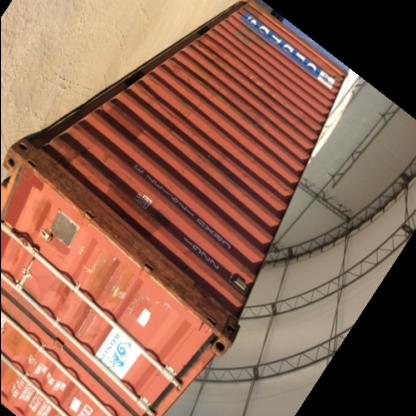Damage: (20, 161, 118, 227), (148, 268, 226, 328), (164, 110, 198, 151), (250, 64, 274, 104), (236, 169, 258, 199), (190, 42, 222, 62)
